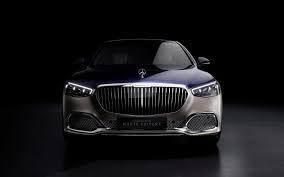mercedes: (136, 65, 148, 76)
